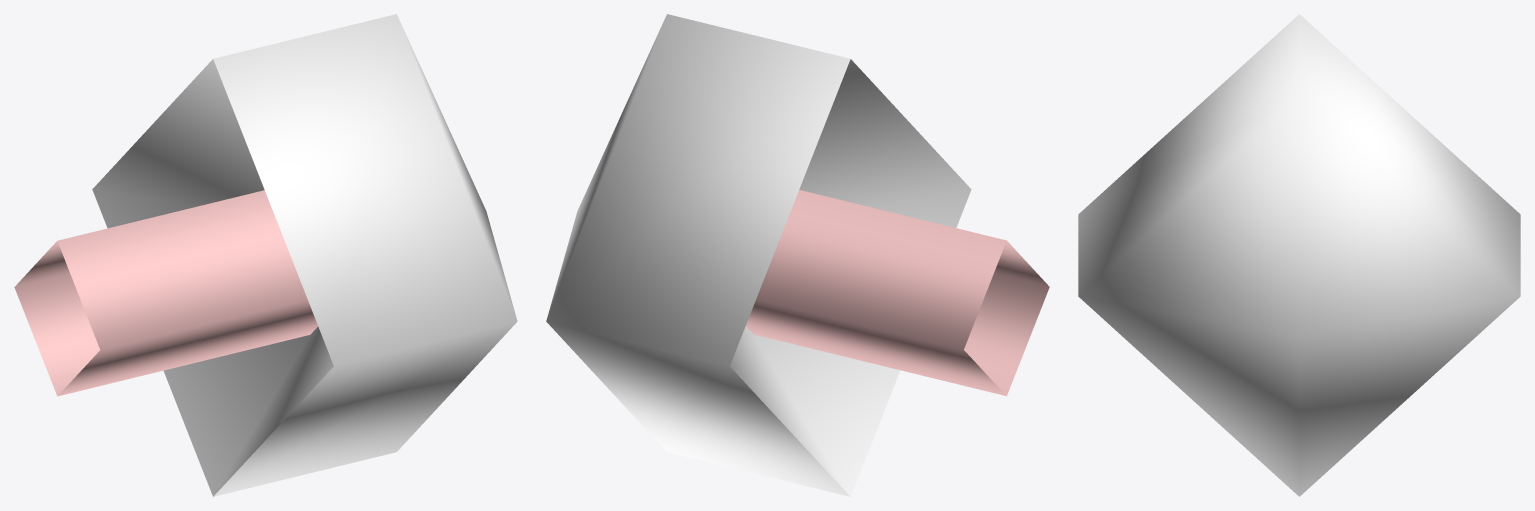
File: Forearm.obj
The picture shows the model from 3 angles, left to right: view 1: azimuth 30°, elevation 25°; view 2: azimuth 150°, elevation 25°; view 3: azimuth 270°, elevation 25°; orthographic projection. The views are drawn at different scales.
Bounding box in the file's own units: 1.53 × 1.49 × 1.49.
Materials: 2 (2 with a texture image).
